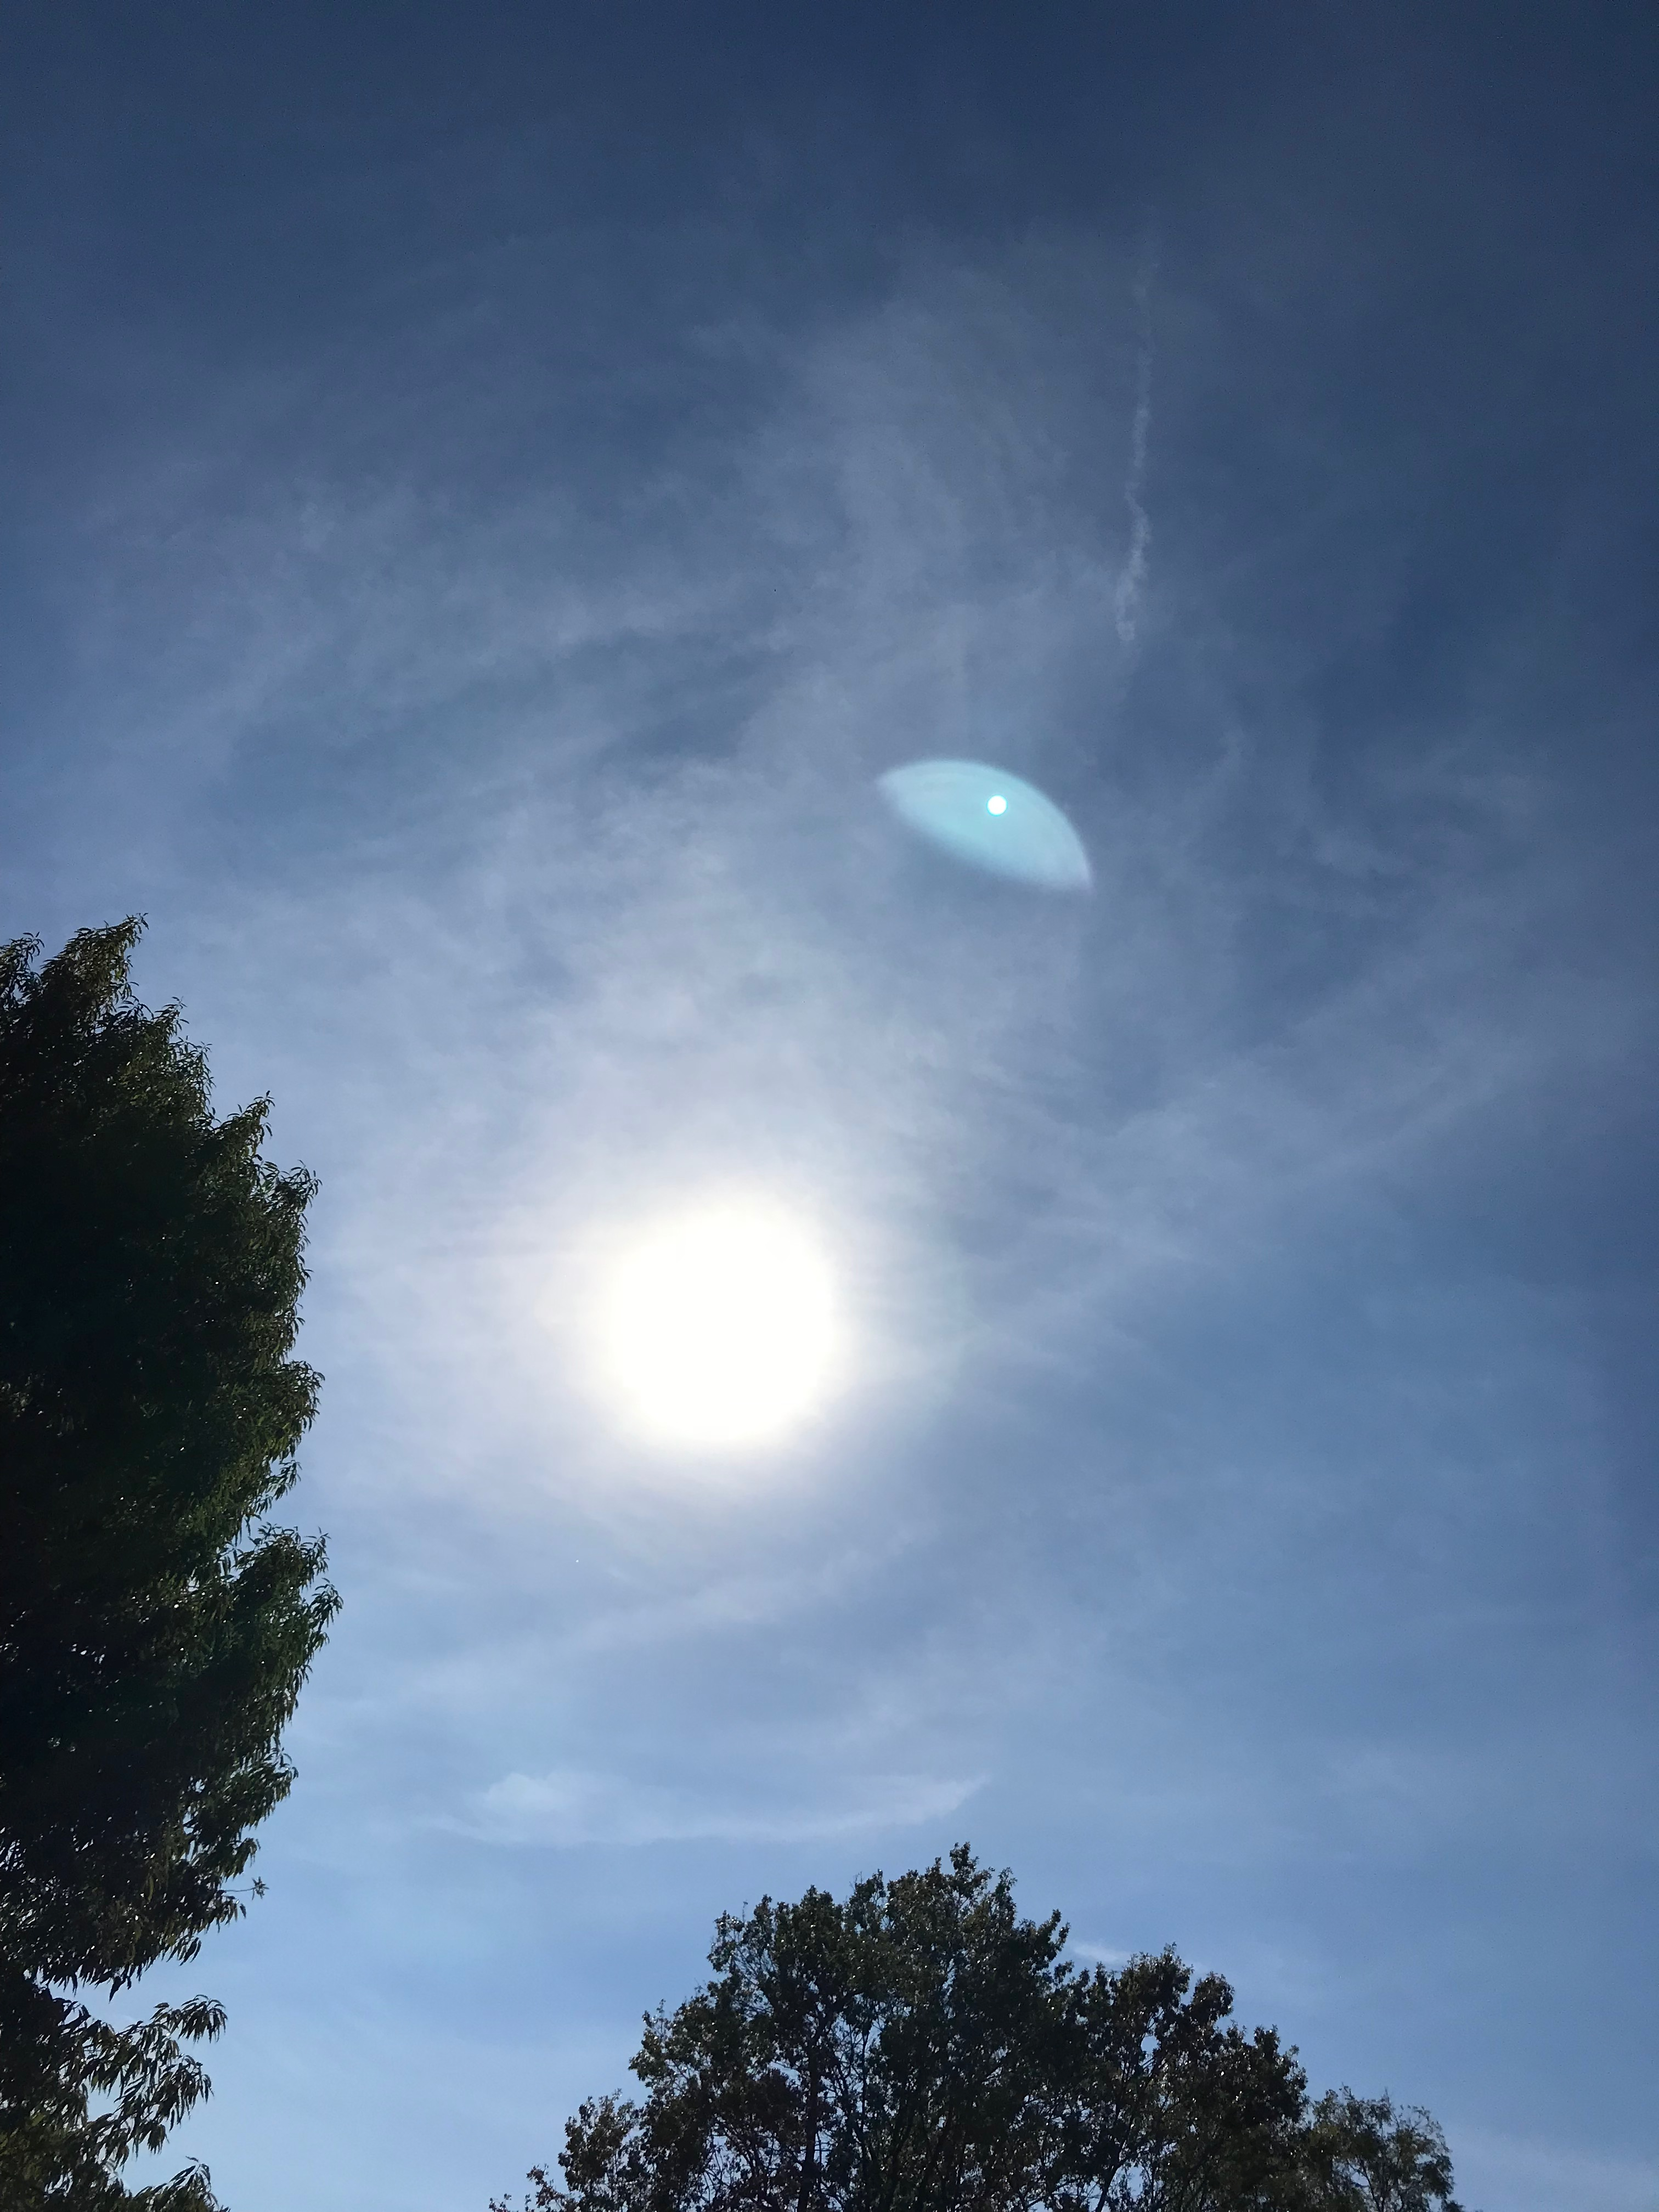flare: (985, 792, 1009, 817)
